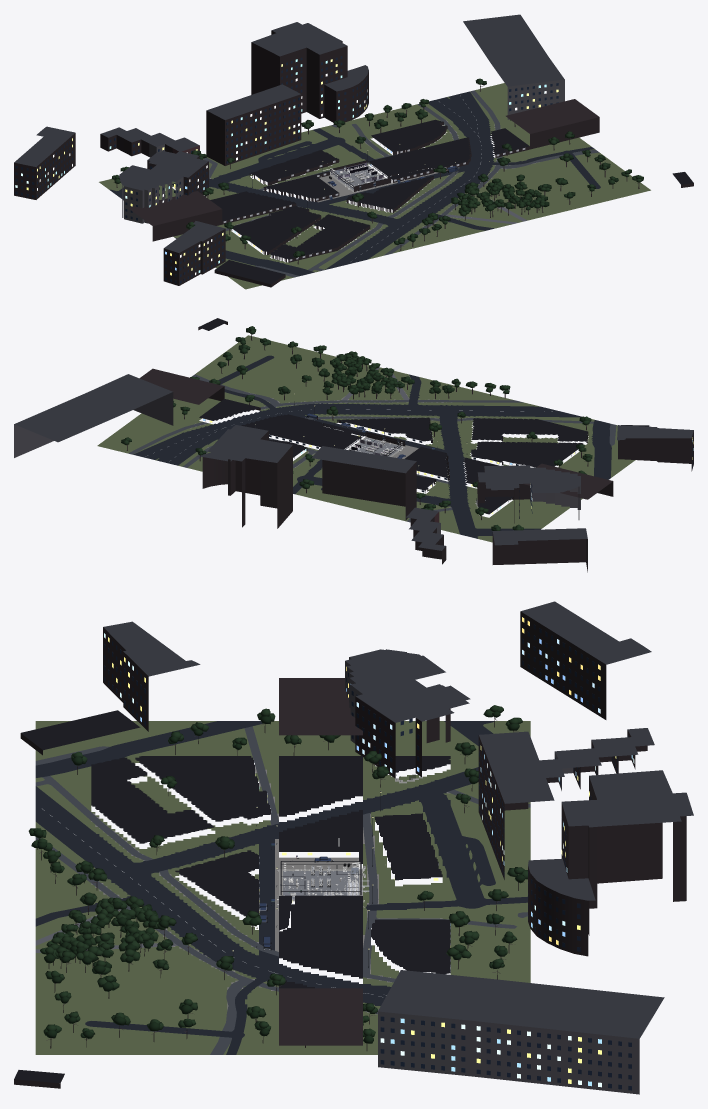
Rendered from level.glb.
3 views of the same model, one above another, from view 1: azimuth 30°, elevation 25°; view 2: azimuth 150°, elevation 25°; view 3: azimuth 270°, elevation 25° (orthographic). The views are drawn at different scales.
Parts seen in each view (by area): view 1: static, blocks_caps, canopies, far_canopies, far_caps, far_windows; view 2: static, blocks_caps, canopies, far_canopies; view 3: static, blocks_caps, canopies, far_canopies, far_caps, far_windows.
Boxes of the visible parts, <box> form: static: <box>14,14,693,289</box>; blocks_caps: <box>172,119,529,259</box>; canopies: <box>202,109,568,233</box>; far_canopies: <box>111,78,643,257</box>; far_caps: <box>215,172,693,284</box>; far_windows: <box>15,59,558,275</box>; static: <box>14,322,693,572</box>; blocks_caps: <box>199,399,587,514</box>; canopies: <box>245,354,563,487</box>; far_canopies: <box>121,326,592,530</box>; static: <box>14,601,693,1094</box>; blocks_caps: <box>91,756,450,988</box>; canopies: <box>71,737,471,991</box>; far_canopies: <box>28,705,527,1043</box>; far_caps: <box>14,710,140,1083</box>; far_windows: <box>104,617,634,1087</box>.
Bounding box in the file's own units: 259 × 30 × 170.
